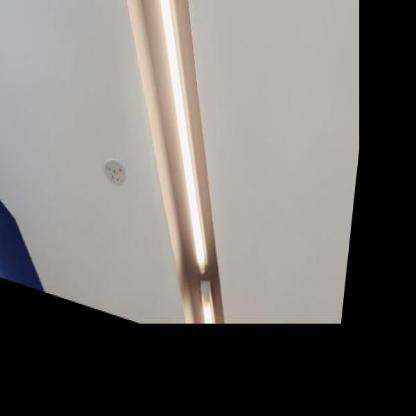light_on: (104, 0, 245, 274), (191, 274, 231, 352)
